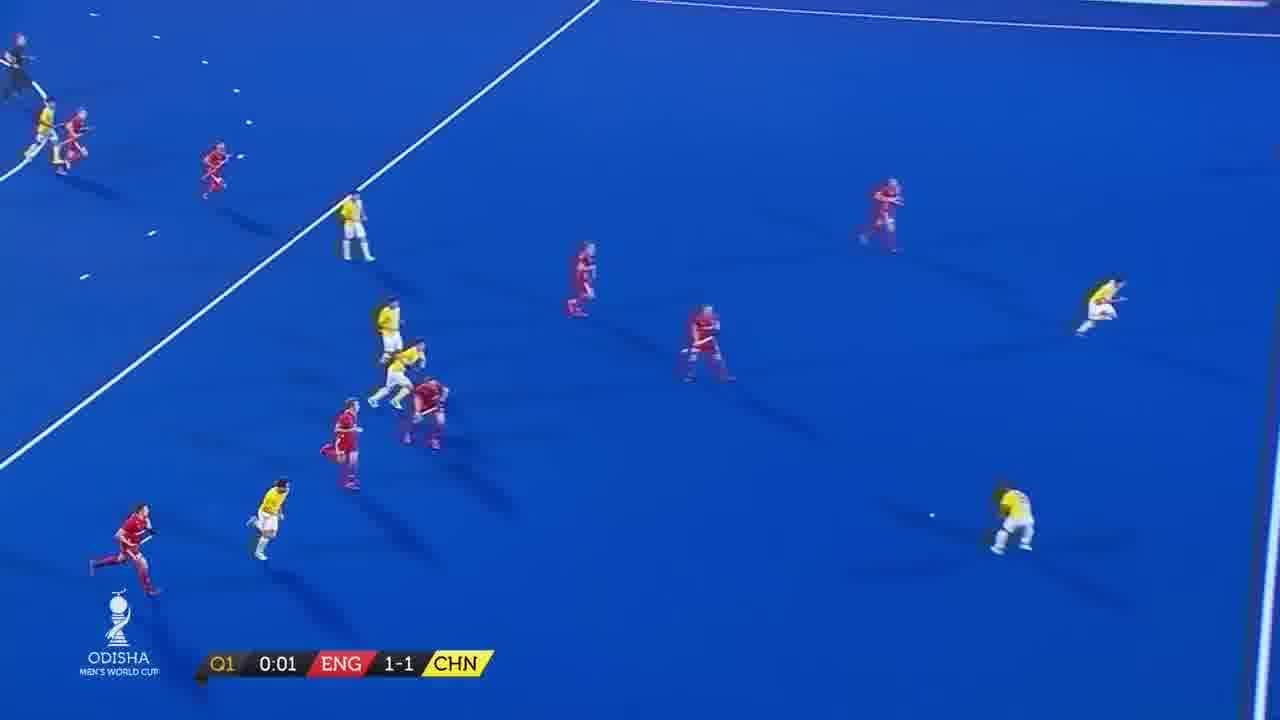ball: (928, 506, 944, 522)
